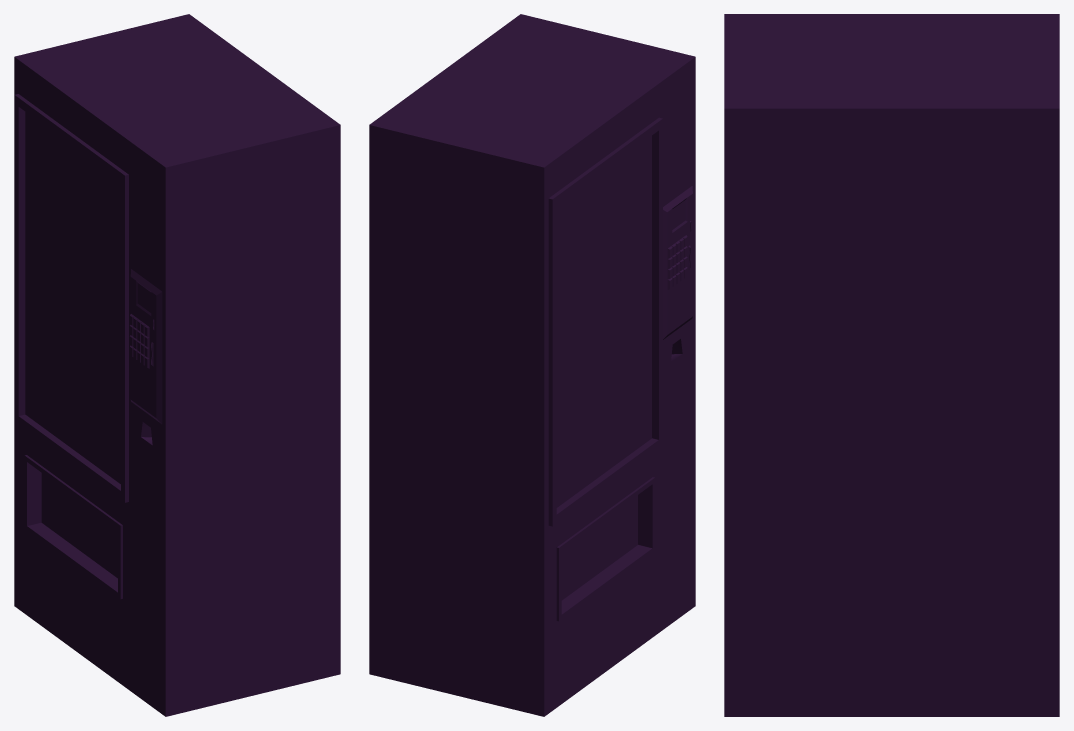
Rendered from Vending Machine.obj.
3 views of the same model, side by side, from view 1: azimuth 30°, elevation 25°; view 2: azimuth 150°, elevation 25°; view 3: azimuth 270°, elevation 25° (orthographic). The views are drawn at different scales.
Parts seen in each view (by area): view 1: Vending_Machine.005_Vending_Machine.003; view 2: Vending_Machine.005_Vending_Machine.003; view 3: Vending_Machine.005_Vending_Machine.003.
Boxes of the visible parts, x1,y1,x2,y2 form: Vending_Machine.005_Vending_Machine.003: (14, 14, 340, 716); Vending_Machine.005_Vending_Machine.003: (369, 14, 695, 716); Vending_Machine.005_Vending_Machine.003: (724, 14, 1059, 716).
Bounding box in the file's own units: 0.6275 × 1.83 × 0.9144.
